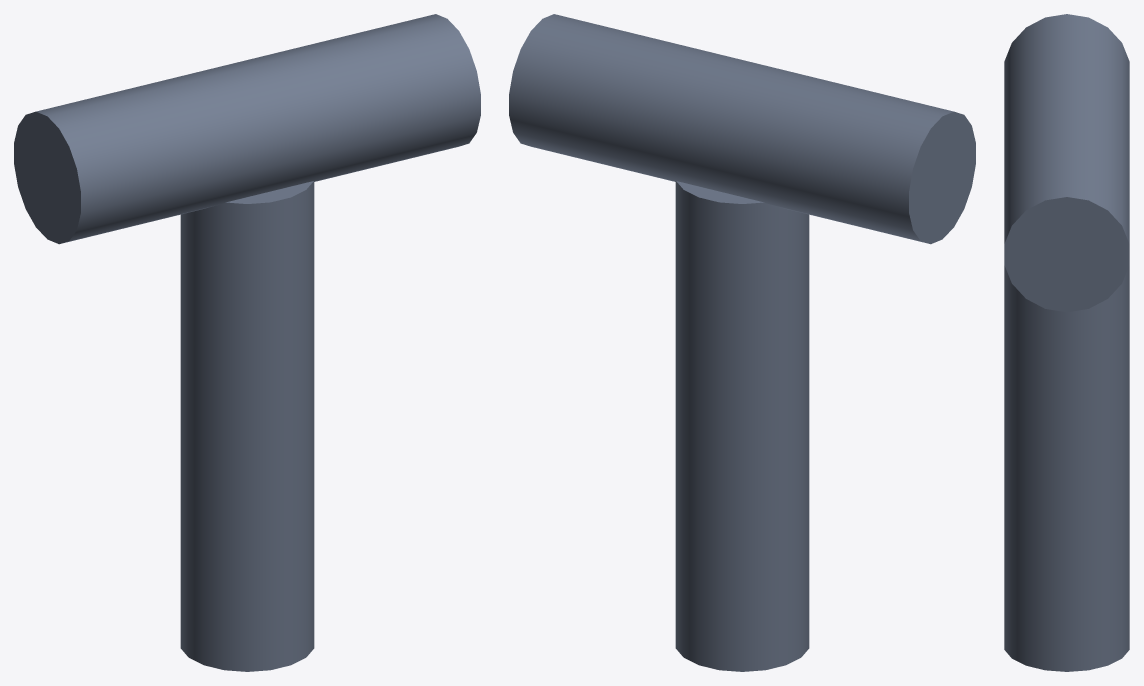
File: gear shift.fbx
The picture shows the model from 3 angles, left to right: view 1: azimuth 30°, elevation 25°; view 2: azimuth 150°, elevation 25°; view 3: azimuth 270°, elevation 25°; orthographic projection. The views are drawn at different scales.
Visible parts, largest first — view 1: Gear shift; view 2: Gear shift; view 3: Gear shift.
Part boxes in pixels (x1,y1,x2,y2): Gear shift: [14, 14, 480, 671]; Gear shift: [509, 14, 975, 671]; Gear shift: [1004, 14, 1129, 671].
Bounding box in the file's own units: 6.69 × 9.2 × 1.94.
